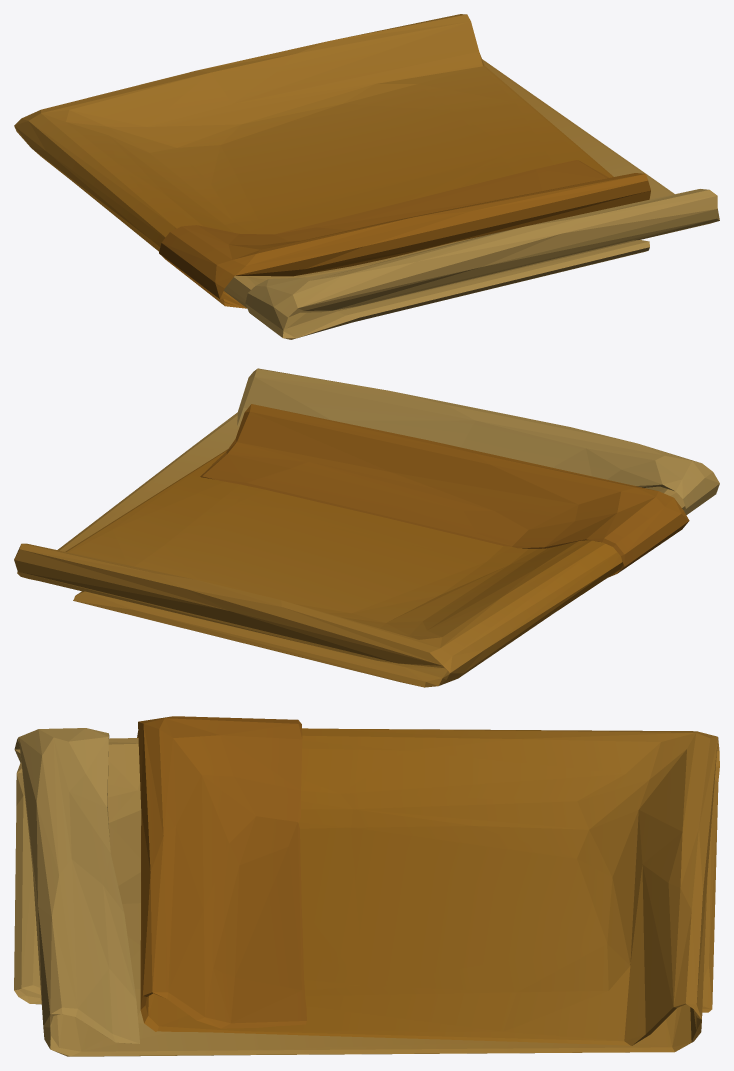
Rendered from Cloth.fbx.
3 views of the same model, one above another, from view 1: azimuth 30°, elevation 25°; view 2: azimuth 150°, elevation 25°; view 3: azimuth 270°, elevation 25° (orthographic). The views are drawn at different scales.
Parts seen in each view (by area): view 1: Tower; view 2: Tower; view 3: Tower.
Part boxes in pixels (x1,y1,x2,y2): Tower: (14, 14, 719, 339); Tower: (14, 368, 719, 687); Tower: (14, 716, 719, 1056).
Bounding box in the file's own units: 539 × 53.89 × 541.
